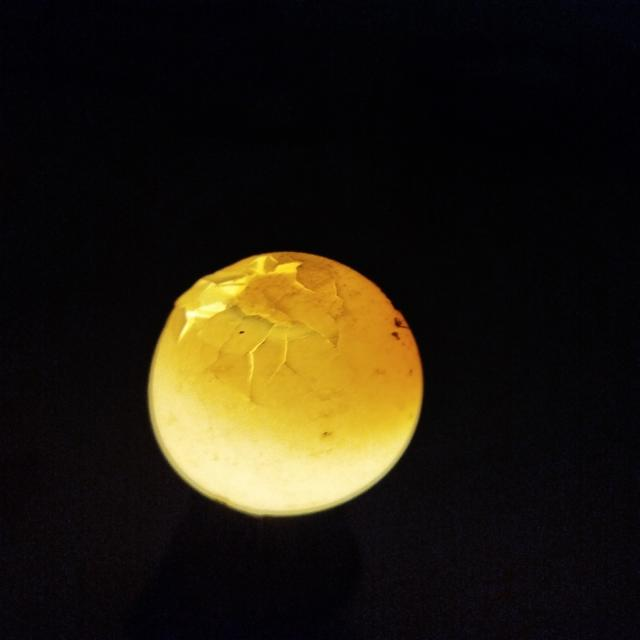Rachadura: (171, 253, 348, 409)
